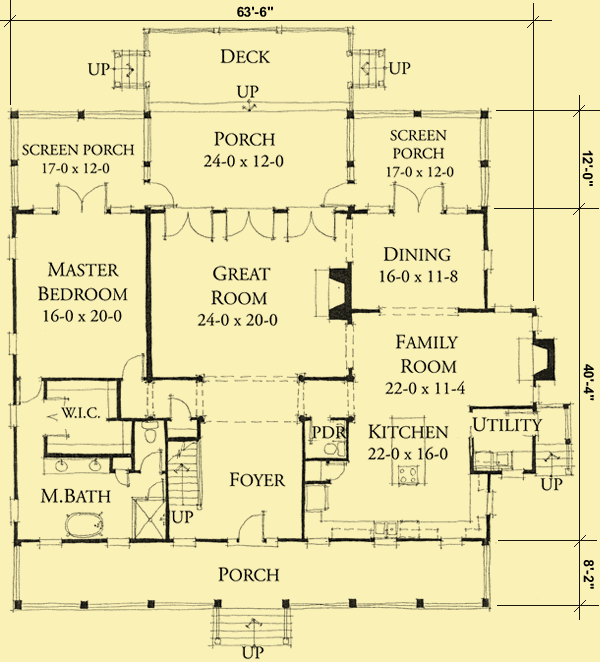door: (280, 202, 344, 245), (388, 178, 449, 220), (220, 204, 280, 245), (162, 203, 216, 245), (52, 177, 110, 216), (317, 177, 357, 212), (235, 510, 271, 548), (139, 179, 178, 209), (119, 349, 148, 386), (17, 371, 44, 409), (165, 391, 196, 421), (135, 447, 165, 476), (323, 461, 350, 482), (144, 477, 163, 503), (113, 467, 132, 491)
kitchen bar: (386, 409, 433, 492)
large sink: (133, 417, 164, 445), (321, 439, 345, 458)
small sink: (44, 451, 110, 480)
stairs: (208, 595, 298, 662), (532, 399, 580, 496), (165, 436, 205, 529), (343, 45, 412, 91), (85, 48, 153, 90)
tub: (60, 505, 111, 540)
windows: (3, 595, 225, 616), (347, 591, 491, 618), (474, 114, 495, 208), (7, 112, 22, 215), (7, 533, 25, 611), (344, 113, 358, 169), (143, 112, 154, 168)
